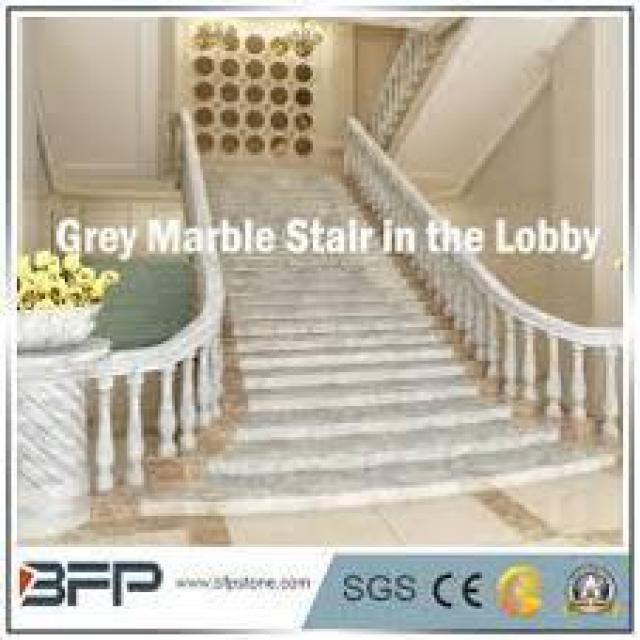upstair: (212, 314, 582, 486)
